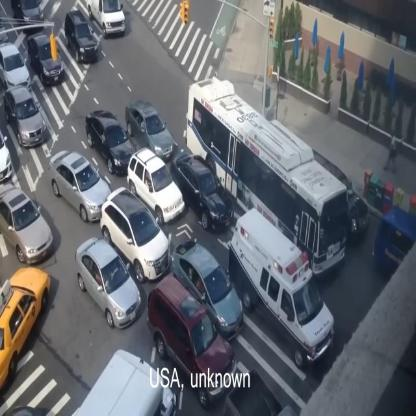priority: (228, 209, 334, 368)
